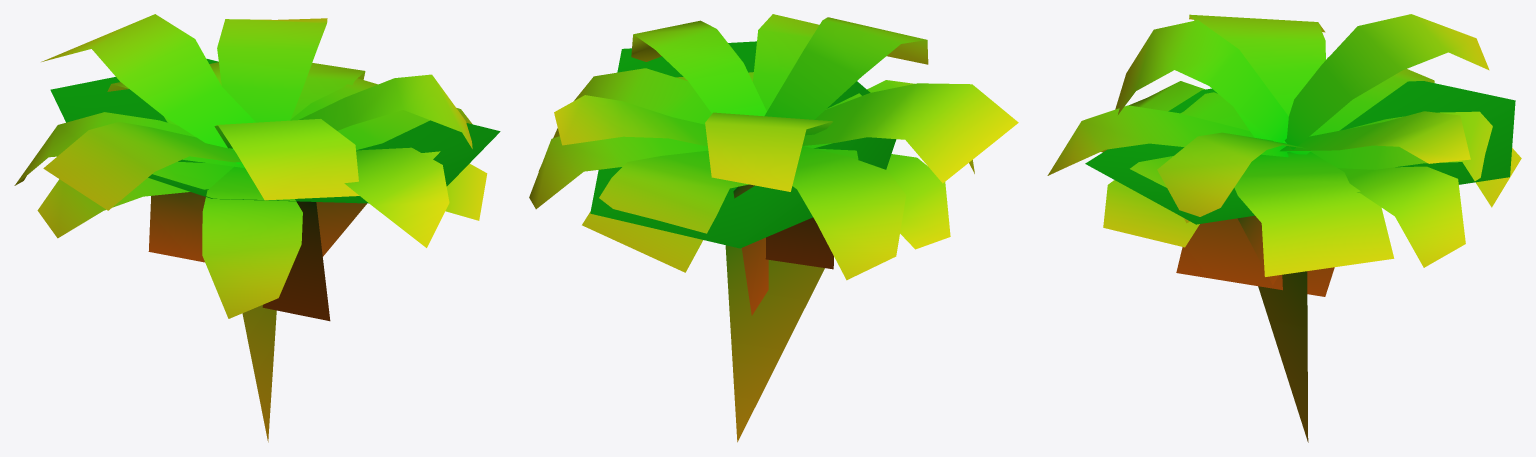
The model's file is Water Cabbage_LOD1_Var6_sjdlV.fbx.
3 renders of one model, left to right at view 1: azimuth 30°, elevation 25°; view 2: azimuth 150°, elevation 25°; view 3: azimuth 270°, elevation 25°, orthographic. The views are drawn at different scales.
Visible parts, largest first — view 1: _9eb2_Var6_LOD1; view 2: _9eb2_Var6_LOD1; view 3: _9eb2_Var6_LOD1.
Boxes of the visible parts, x1,y1,x2,y2 form: _9eb2_Var6_LOD1: (14, 14, 500, 442); _9eb2_Var6_LOD1: (529, 14, 1018, 442); _9eb2_Var6_LOD1: (1047, 14, 1521, 442).
Bounding box in the file's own units: 16.98 × 14.97 × 17.3.
